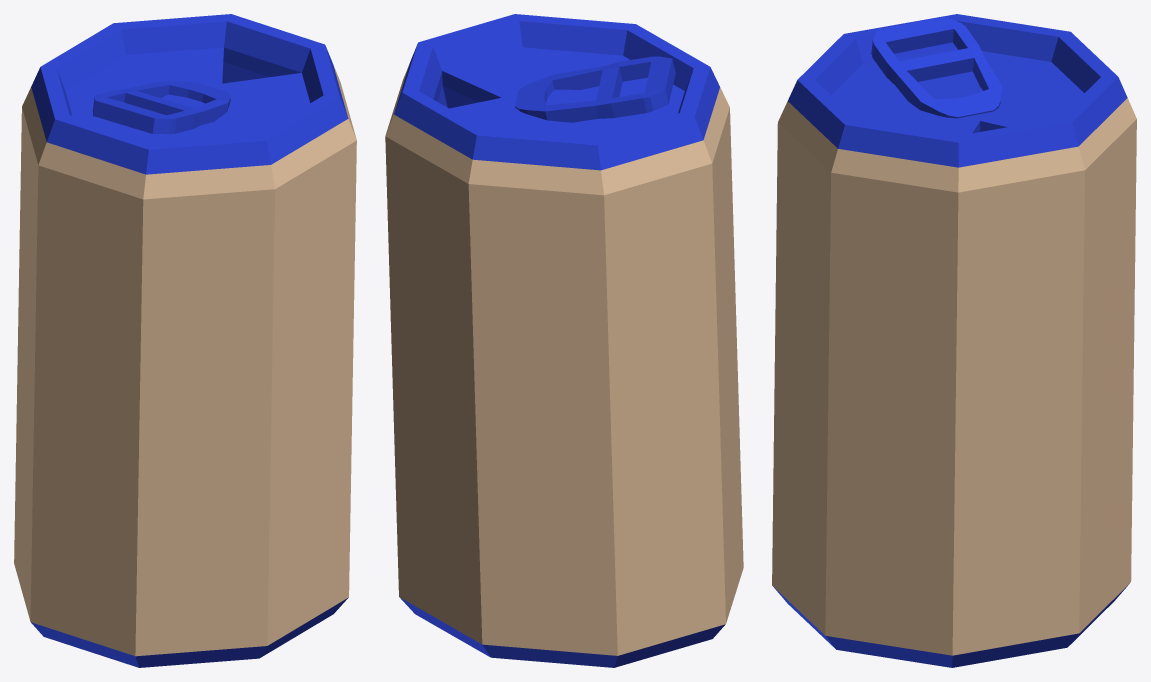
File: Can.fbx
3 renders of one model, left to right at view 1: azimuth 30°, elevation 25°; view 2: azimuth 150°, elevation 25°; view 3: azimuth 270°, elevation 25°, orthographic. The views are drawn at different scales.
Visible parts, largest first — view 1: Cube.002; view 2: Cube.002; view 3: Cube.002.
Boxes of the visible parts, bbox=[...] form: Cube.002: bbox=[14, 14, 356, 667]; Cube.002: bbox=[385, 14, 743, 667]; Cube.002: bbox=[772, 14, 1136, 667].
Bounding box in the file's own units: 5.97 × 9.57 × 5.8.
